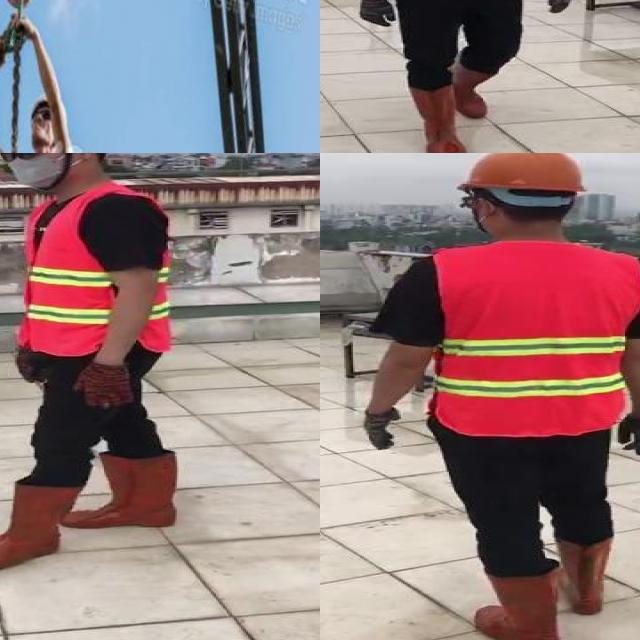boots: (75, 454, 177, 530), (0, 481, 80, 570), (472, 570, 564, 640), (556, 538, 616, 616), (405, 85, 469, 153), (449, 62, 503, 122)
face_mask: (0, 153, 66, 189)
glasses: (0, 153, 48, 166)
hand_glove: (76, 363, 134, 409), (365, 409, 401, 450), (12, 354, 50, 384), (614, 413, 640, 455), (358, 0, 395, 25), (548, 0, 575, 14)
head_helmet: (449, 153, 590, 196)
person: (351, 153, 640, 640), (0, 153, 182, 571), (342, 0, 579, 153)
vest: (430, 240, 640, 436), (19, 187, 175, 354)
